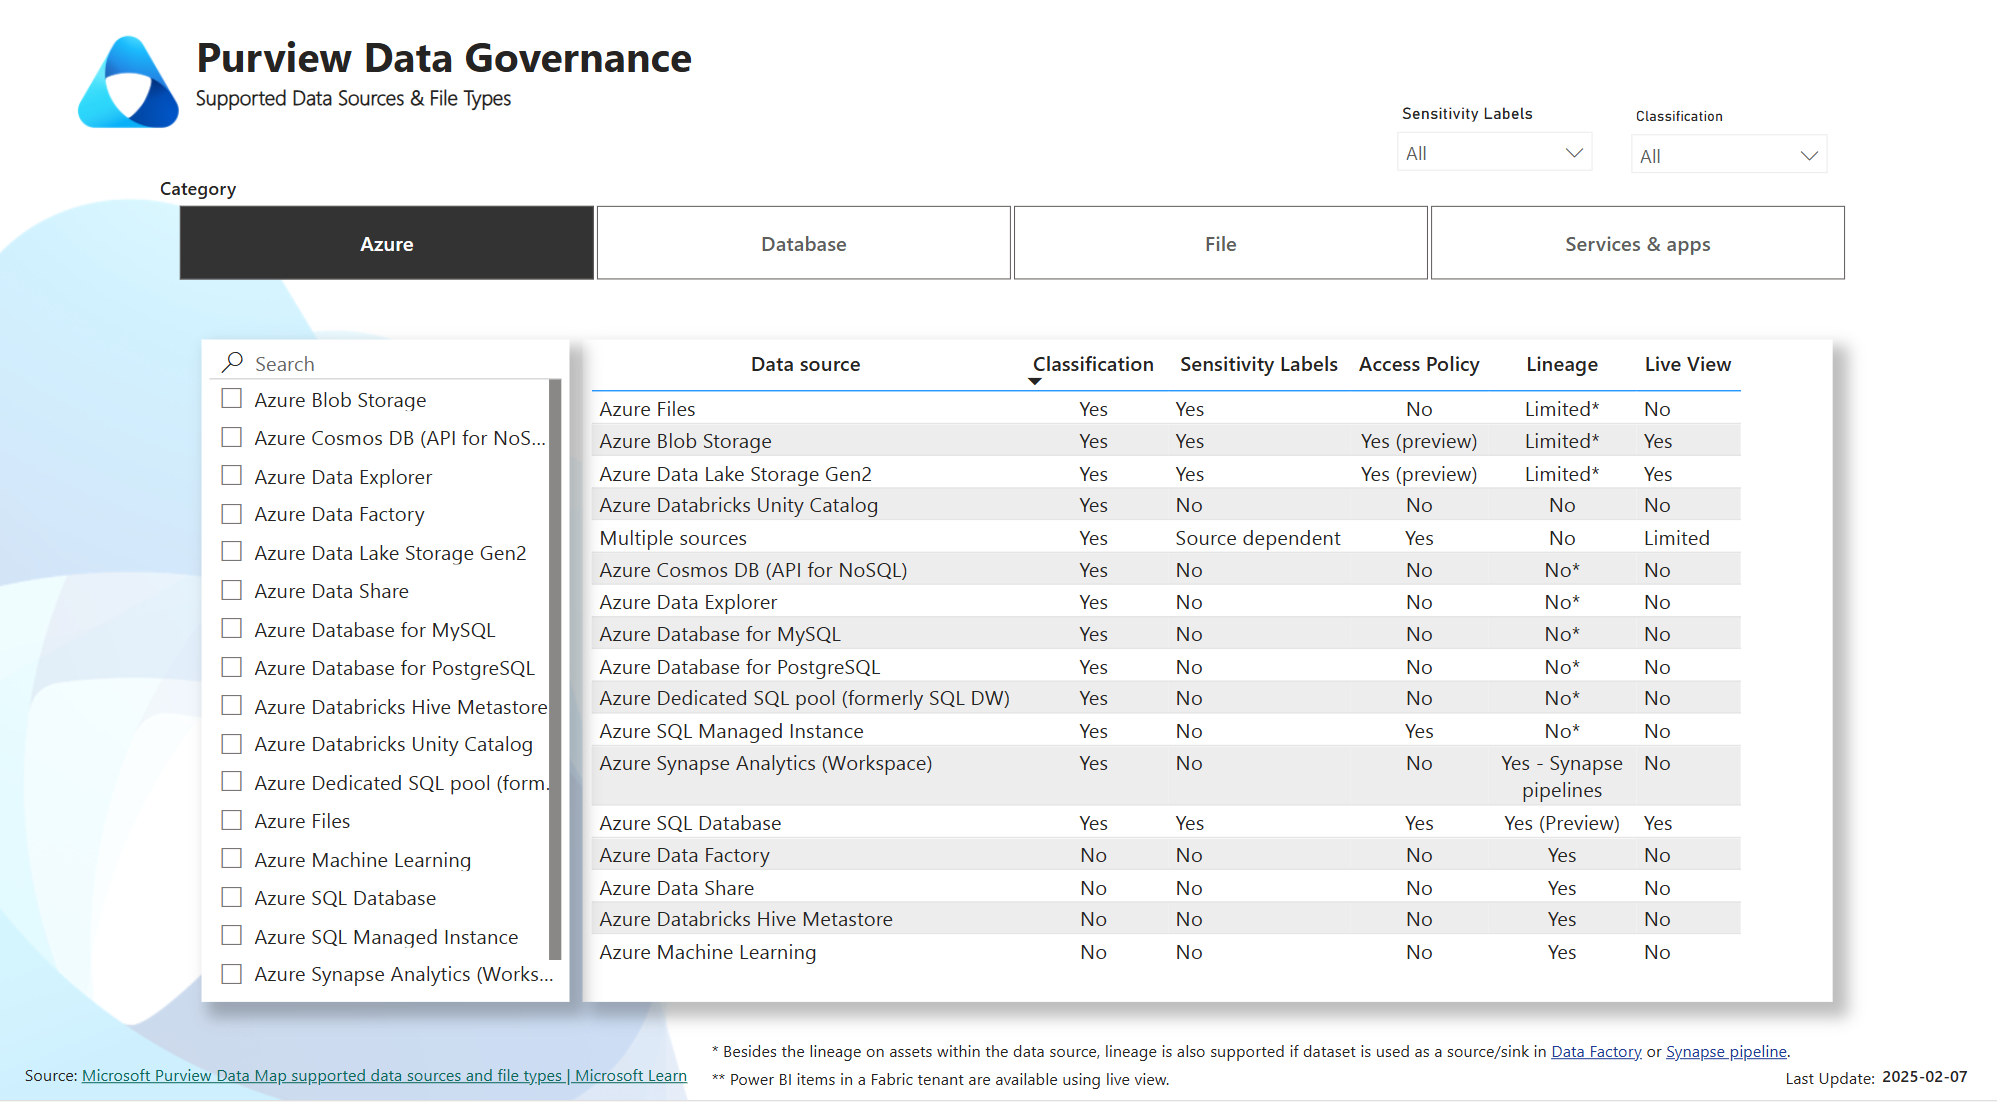

The page's visual inventory and layout, read from the dashboard file:
{"tool":"powerbi","page":{"name":"Supported Data Sources & File Types","canvas":[1280,720],"ordinal":1},"visuals":[{"type":"image","box":[32,16,80,80],"z":0},{"type":"slicer","fields":{"Values":["DataSourceCategory.Data Source Category"]},"box":[80,112,1136,80],"z":1000},{"type":"tableEx","fields":{"Values":["Supported Data Sources.Data source","Supported Data Sources.Classification","Supported Data Sources.Sensitivity Labels","Supported Data Sources.Access Policy","Supported Data Sources.Lineage","Supported Data Sources.Live View"]},"box":[368.6,224,815.2,432.3],"z":2000},{"type":"textbox","box":[112,16,656,64],"z":3000},{"type":"card","fields":{"Values":["Min(Data Refresh.Date)"]},"box":[1207.9,691.7,71.8,24.2],"z":4000},{"type":"textbox","box":[1111.9,686.4,104.3,32.5],"z":5000},{"type":"slicer","fields":{"Values":["Supported Data Sources.Data source"]},"box":[119.9,224,239.8,432.3],"z":6000},{"type":"textbox","box":[0,688,568,32],"z":7000},{"type":"textbox","box":[448,672,728,48],"z":8000},{"type":"slicer","fields":{"Values":["Supported Data Sources.Classification"]},"box":[1042.7,67.1,148,61.7],"z":9000},{"type":"slicer","fields":{"Values":["Supported Data Sources.Sensitivity Labels"]},"box":[890.6,64.4,147.3,67.1],"z":10000}]}

Visuals, with their boxes in screenshot pixels (x1, y1, x2, y2), scaled from the page's 1280x720 canvas onto the 1997x1102 screenshot:
image: [left=50, top=24, right=175, bottom=147]
slicer - DataSourceCategory.Data Source Category: [left=125, top=171, right=1897, bottom=294]
tableEx - Supported Data Sources.Data source x Supported Data Sources.Classification: [left=575, top=343, right=1847, bottom=1005]
textbox: [left=175, top=24, right=1198, bottom=122]
card - Min(Data Refresh.Date): [left=1885, top=1059, right=1996, bottom=1096]
textbox: [left=1735, top=1051, right=1897, bottom=1100]
slicer - Supported Data Sources.Data source: [left=187, top=343, right=561, bottom=1005]
textbox: [left=0, top=1053, right=886, bottom=1101]
textbox: [left=699, top=1029, right=1835, bottom=1101]
slicer - Supported Data Sources.Classification: [left=1627, top=103, right=1858, bottom=197]
slicer - Supported Data Sources.Sensitivity Labels: [left=1389, top=99, right=1619, bottom=201]
